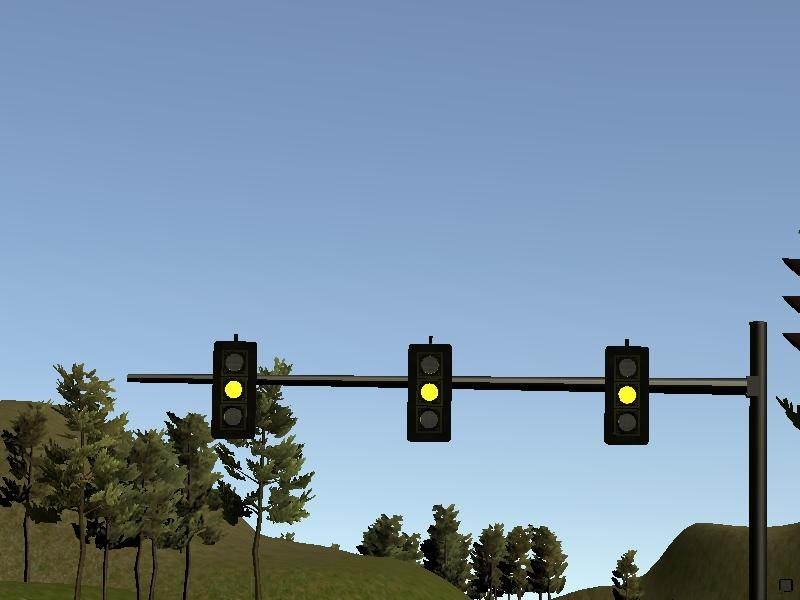YELLOW: (602, 343, 651, 447), (210, 340, 260, 438), (402, 343, 452, 441)
